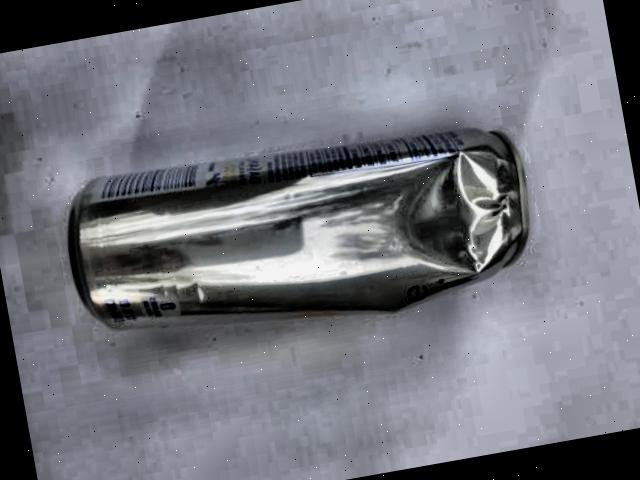Bottles: (59, 96, 545, 370)
